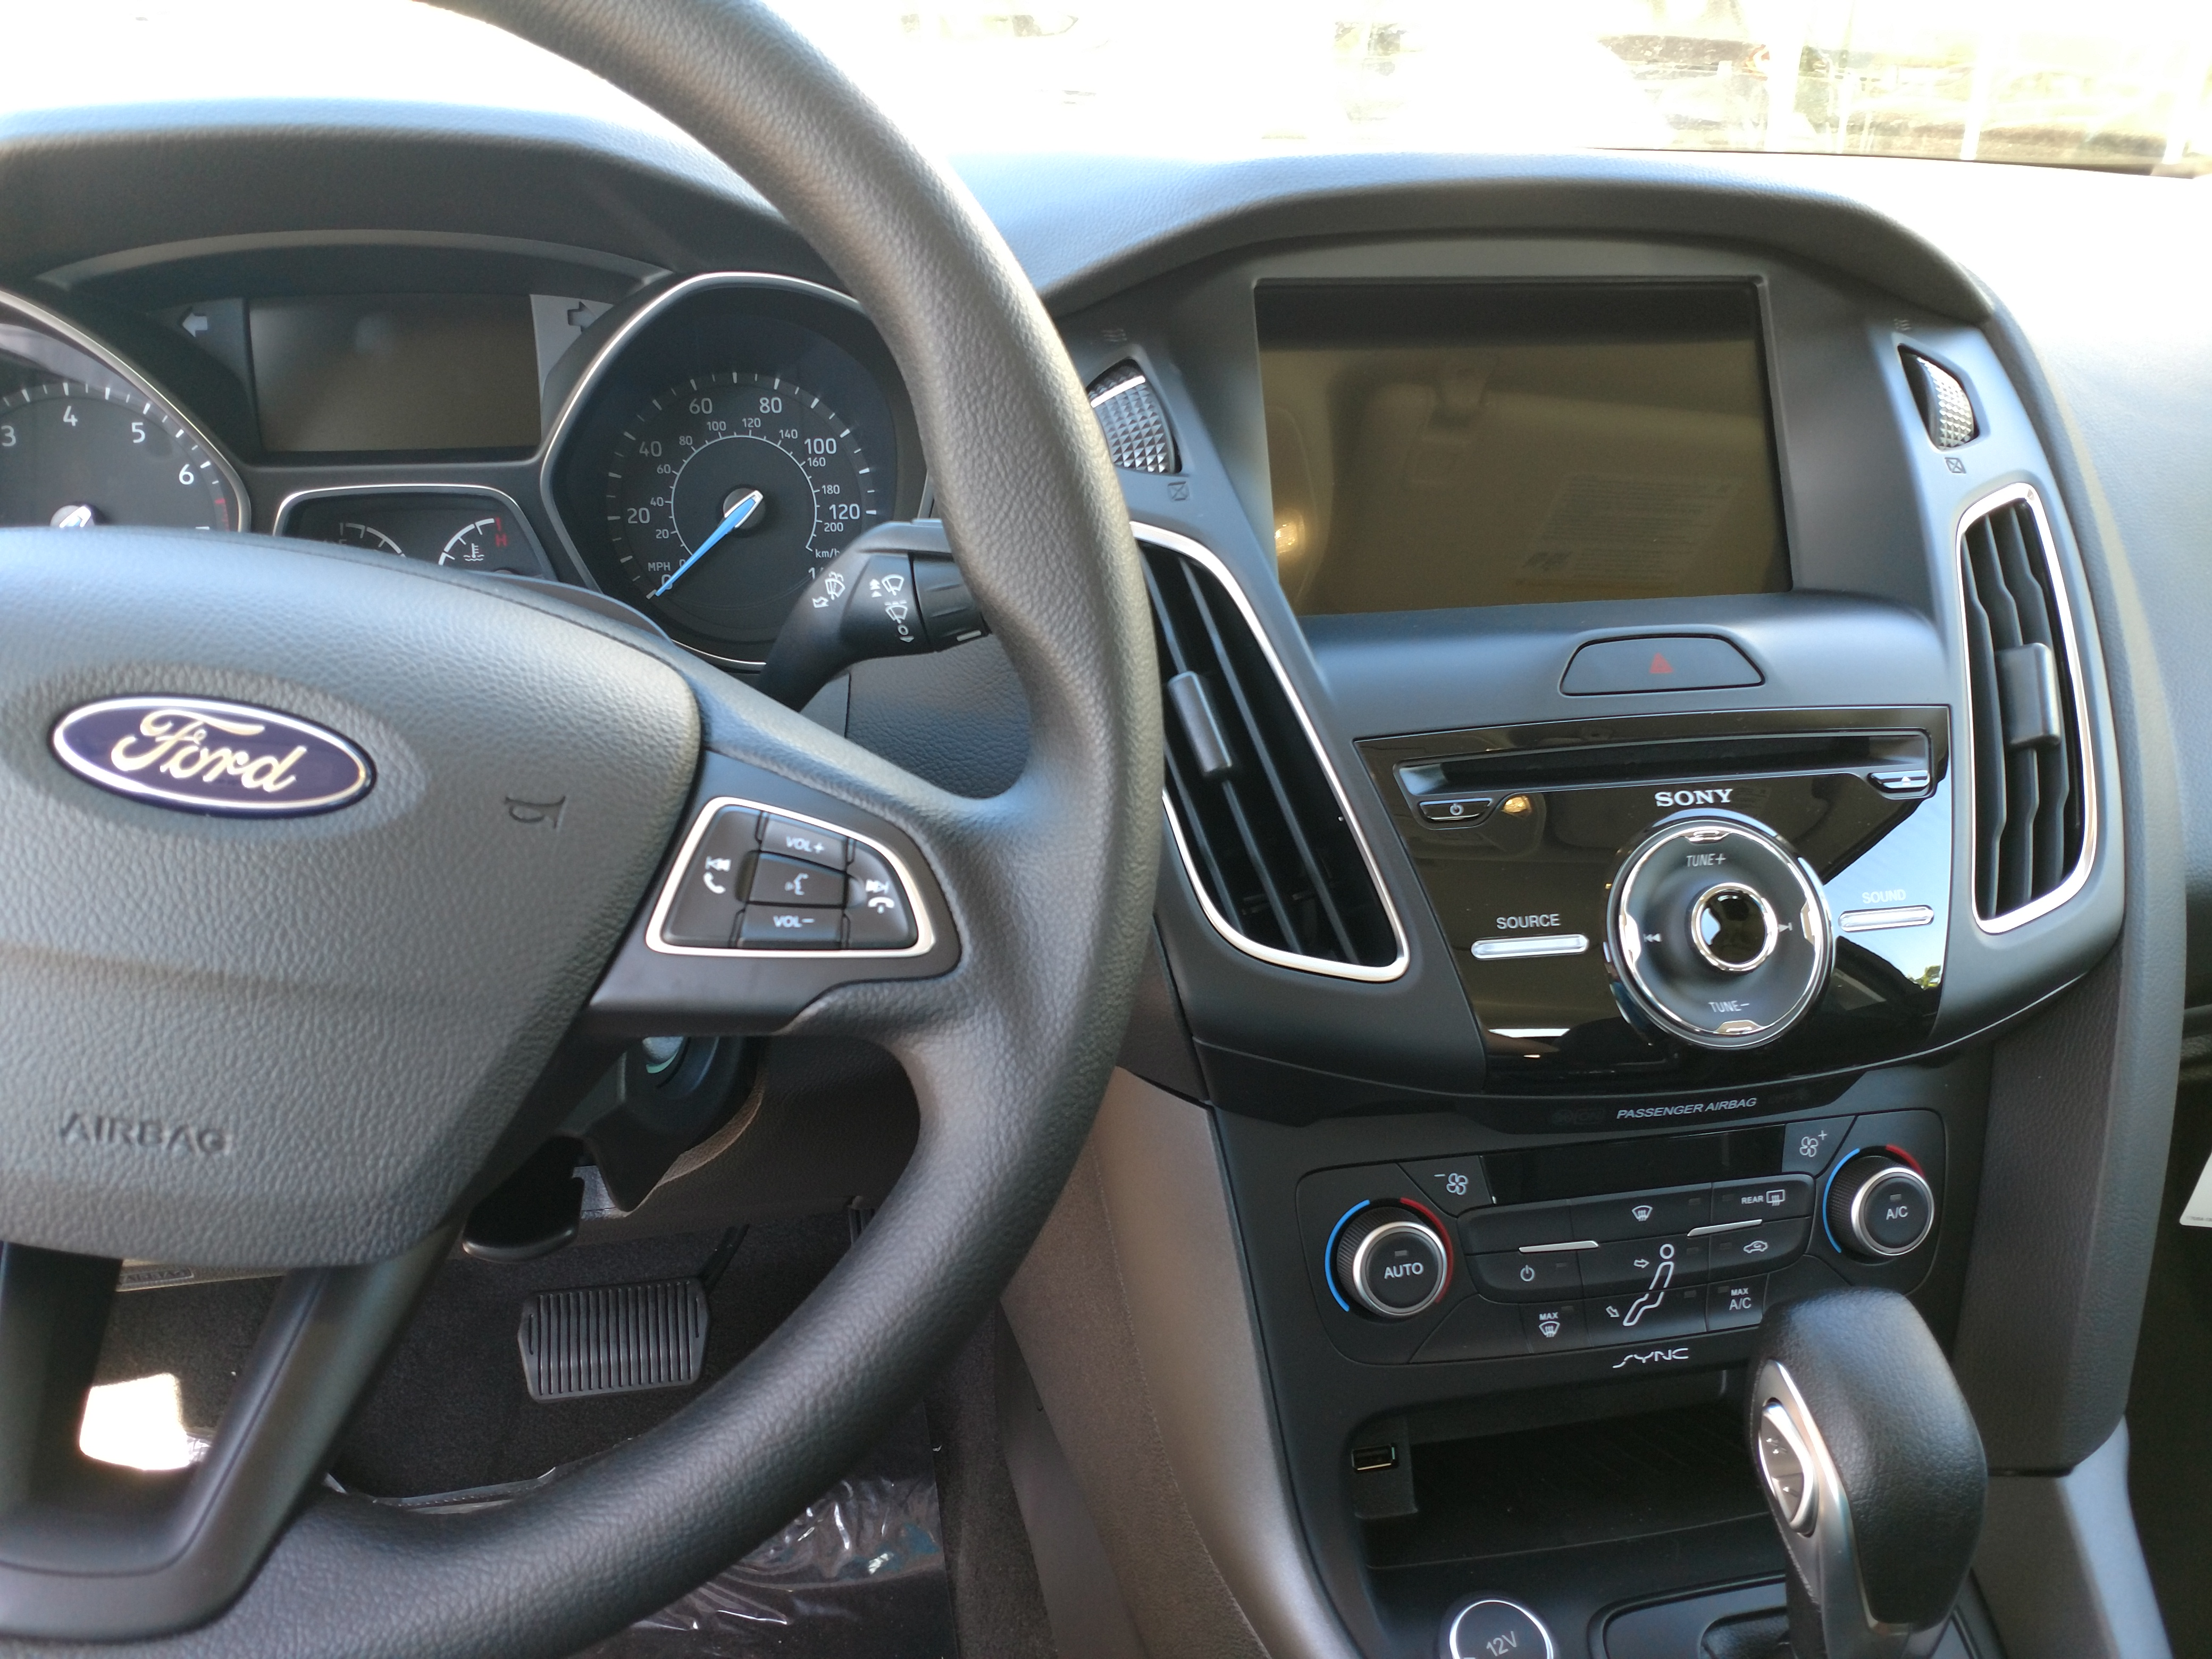Ford: (40, 683, 399, 836)
